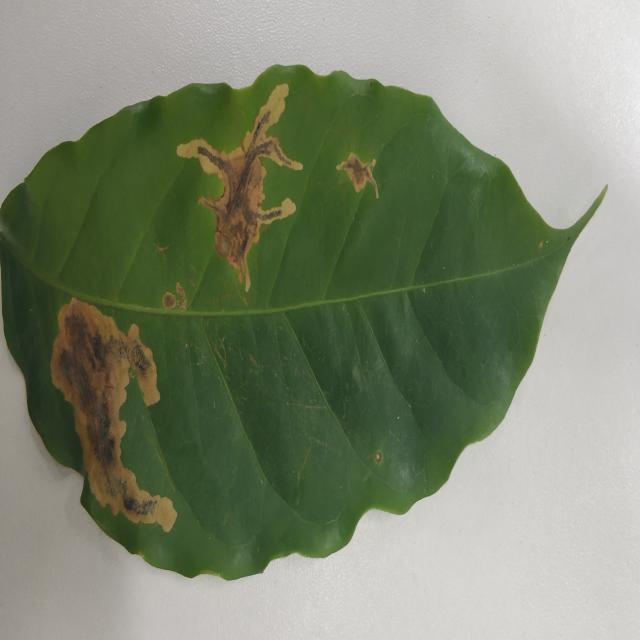Plaga-Minador: (0, 65, 604, 584)
